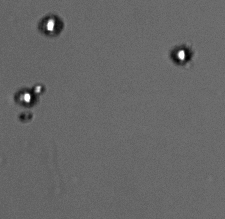Dead Cell: (18, 110, 35, 123)
Living Cell: (36, 12, 65, 38), (170, 42, 194, 66), (13, 85, 36, 108), (30, 81, 47, 93)
